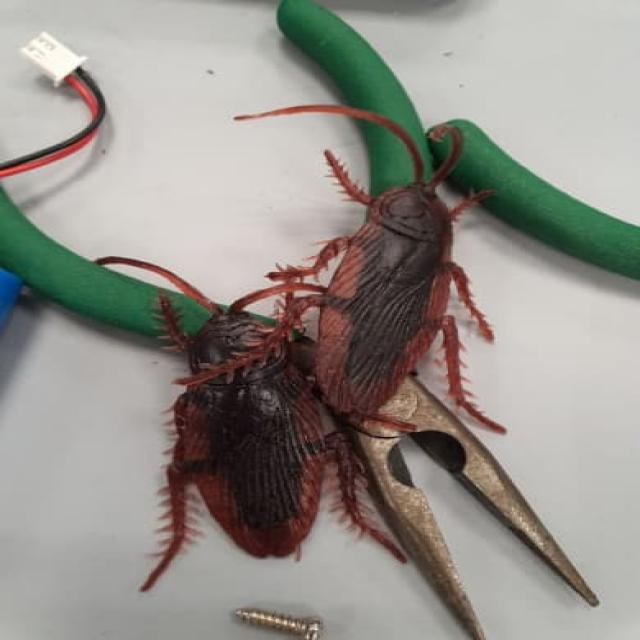Cockroach: (77, 241, 414, 587), (231, 85, 530, 448)
